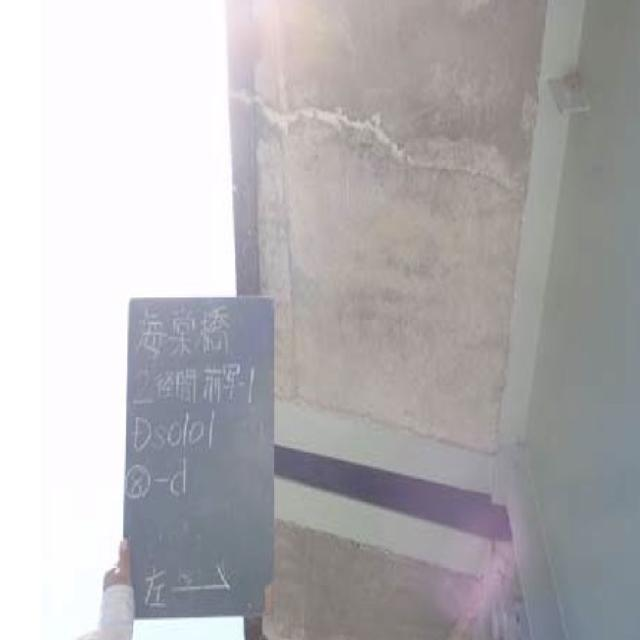freelime: (233, 79, 516, 204)
